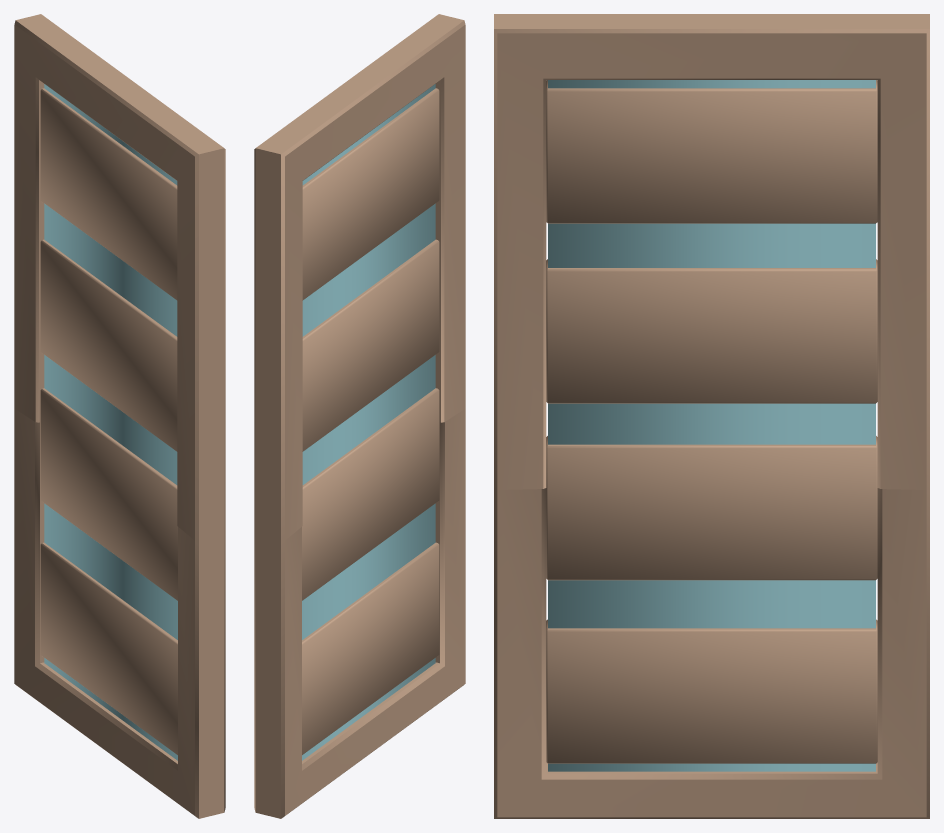
The model's file is Door.fbx.
3 views of the same model, side by side, from view 1: azimuth 30°, elevation 25°; view 2: azimuth 150°, elevation 25°; view 3: azimuth 270°, elevation 25° (orthographic). The views are drawn at different scales.
Visible parts, largest first — view 1: Door; view 2: Door; view 3: Door.
Boxes of the visible parts, x1=… form: Door: x1=14, y1=14, x2=225, y2=818; Door: x1=254, y1=14, x2=465, y2=818; Door: x1=494, y1=14, x2=929, y2=818.
Bounding box in the file's own units: 10.59 × 220 × 110.
